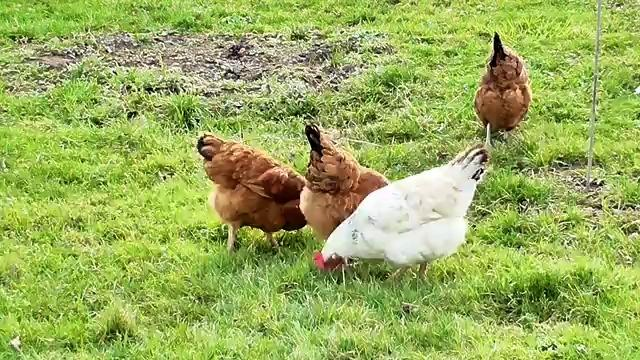Normal: (308, 119, 487, 274), (196, 123, 307, 251), (483, 30, 539, 154)
